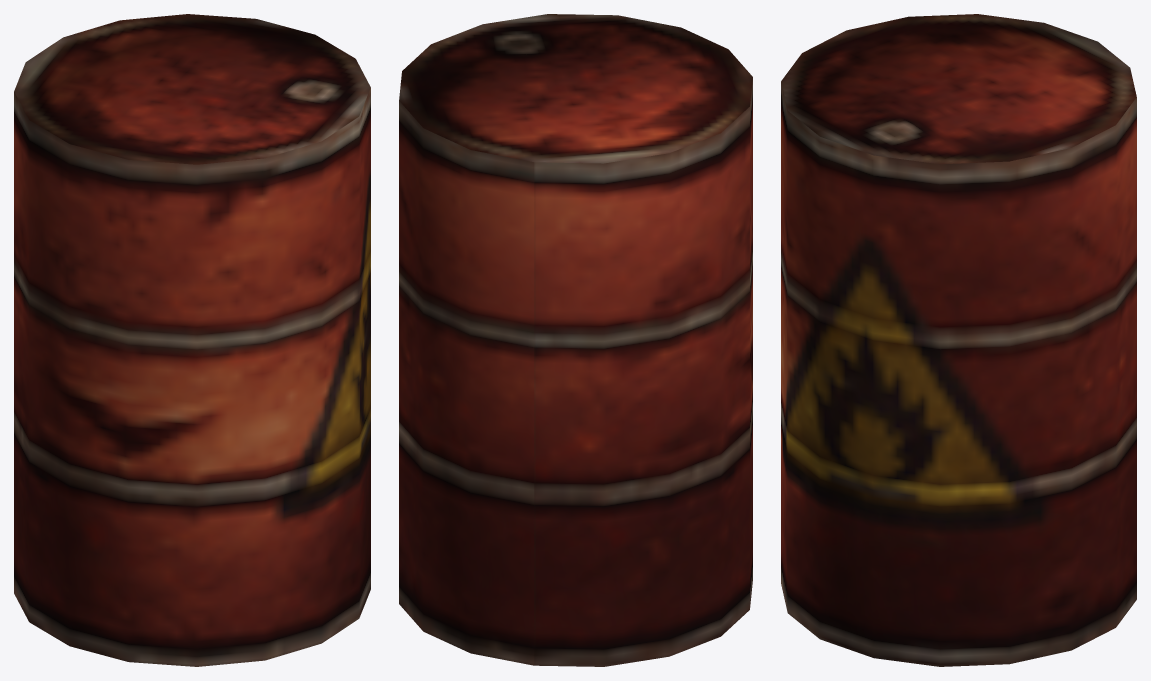
File: explosive_barrel.fbx
3 renders of one model, left to right at view 1: azimuth 30°, elevation 25°; view 2: azimuth 150°, elevation 25°; view 3: azimuth 270°, elevation 25°, orthographic.
Parts seen in each view (by area): view 1: pCylinder37; view 2: pCylinder37; view 3: pCylinder37.
Boxes of the visible parts, box(x1,y1,x2,y2) form: pCylinder37: box(14, 14, 370, 666); pCylinder37: box(399, 14, 752, 666); pCylinder37: box(781, 14, 1136, 666).
Bounding box in the file's own units: 1.99 × 3.11 × 1.99.
